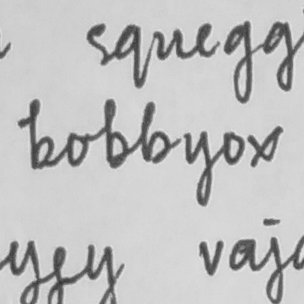b: (137, 99, 174, 165), (25, 97, 57, 171), (100, 96, 131, 171)
o: (63, 130, 91, 168), (220, 129, 246, 168)
x: (247, 124, 285, 169)
y: (181, 127, 214, 209)
